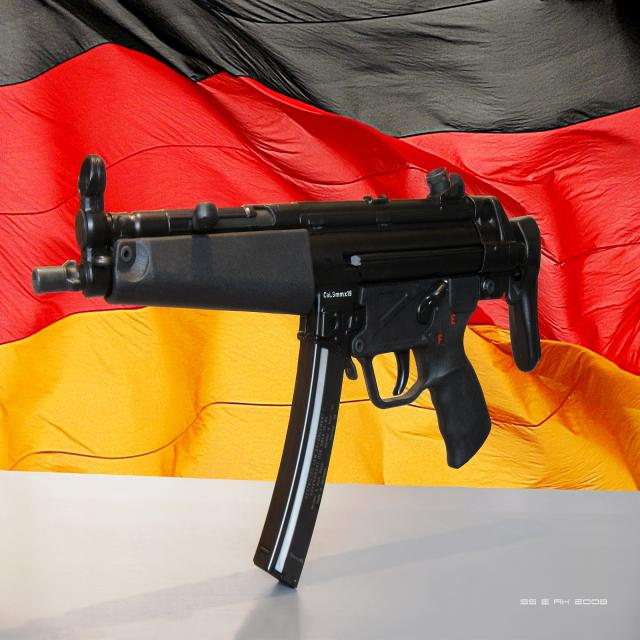SMG: (30, 154, 545, 591)
